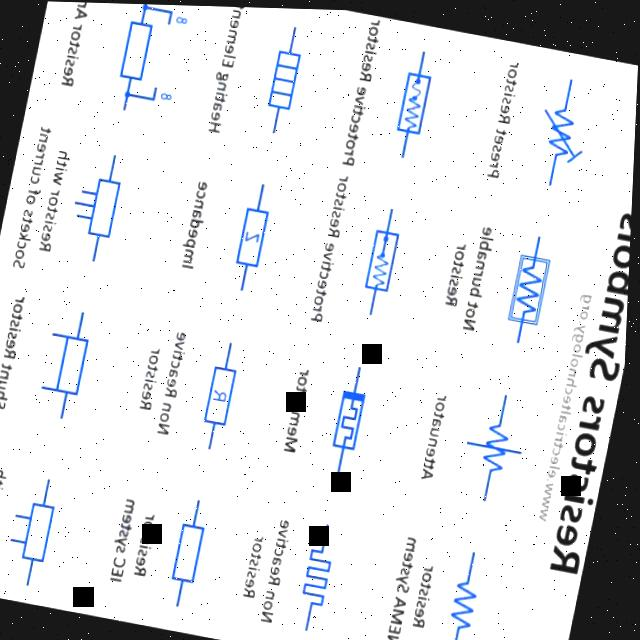resistor: (102, 2, 180, 113), (531, 72, 602, 193), (499, 231, 573, 344), (321, 363, 391, 477), (382, 46, 452, 160), (4, 472, 71, 591), (38, 306, 103, 424), (65, 150, 134, 261), (354, 205, 422, 314), (219, 183, 287, 287), (461, 400, 541, 488), (291, 520, 353, 631), (194, 343, 256, 449), (257, 27, 314, 135), (164, 506, 219, 601), (442, 557, 500, 640)
